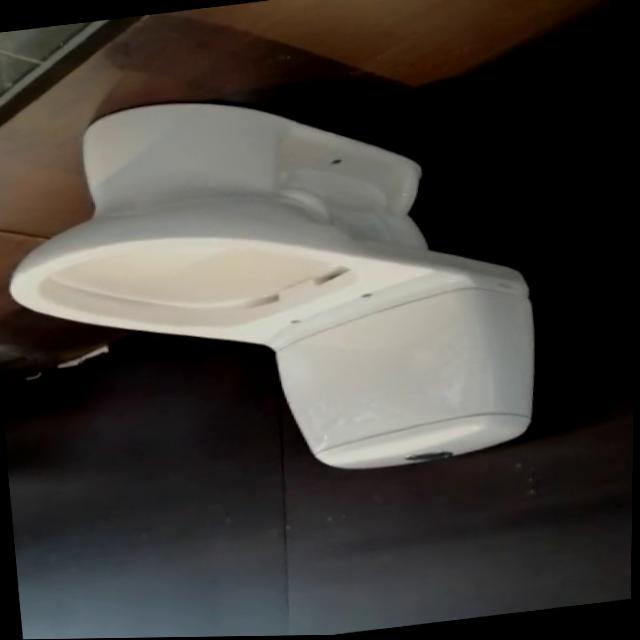toilet: (0, 62, 551, 512)
